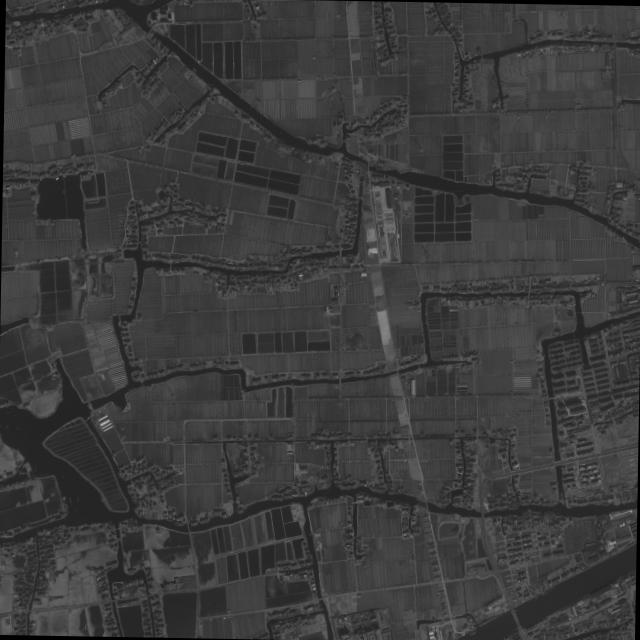ship: (469, 630, 477, 635)
